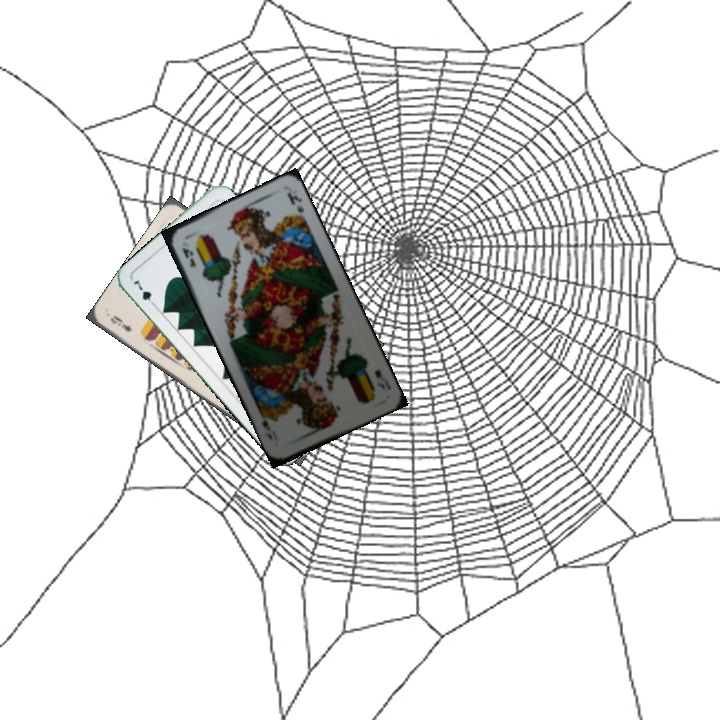E9: (106, 311, 134, 334)
EK: (370, 366, 394, 393), (178, 243, 198, 270)
G7: (129, 276, 160, 310)
